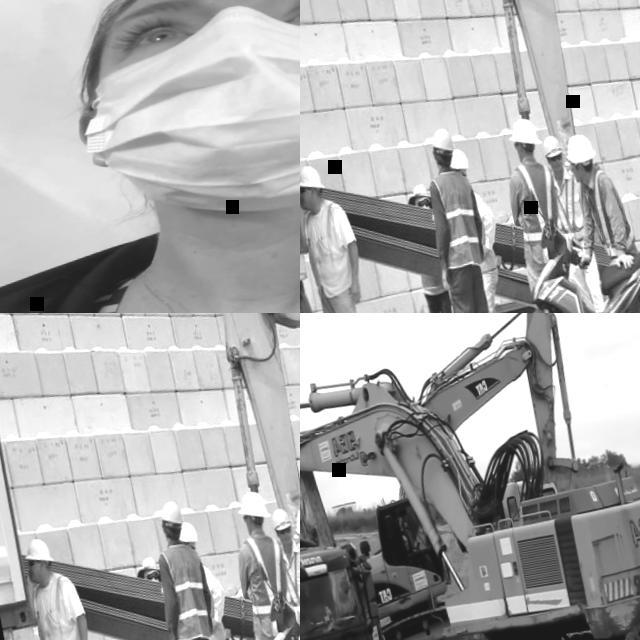helmet: (84, 0, 300, 31), (507, 114, 539, 148), (236, 488, 268, 520), (563, 132, 595, 163), (20, 536, 52, 564), (300, 162, 323, 191), (268, 506, 292, 532), (429, 126, 452, 152), (158, 500, 181, 524), (540, 134, 562, 158), (447, 149, 468, 173), (176, 522, 197, 546), (134, 555, 158, 575), (406, 182, 428, 202), (291, 505, 300, 536)
vest: (579, 160, 639, 262), (429, 165, 484, 268), (300, 198, 355, 301), (158, 538, 212, 640), (234, 530, 292, 619), (506, 157, 562, 246), (27, 571, 84, 640), (406, 204, 446, 298), (546, 164, 588, 244), (134, 576, 175, 640), (274, 536, 300, 616), (471, 220, 499, 274), (199, 592, 228, 640), (402, 532, 412, 547)
